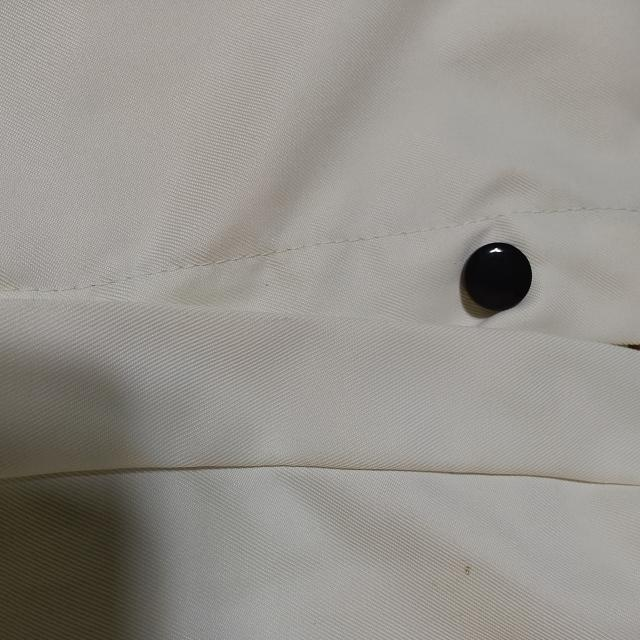education_male_uniform: (0, 0, 632, 360), (253, 67, 640, 358), (13, 480, 632, 640)
